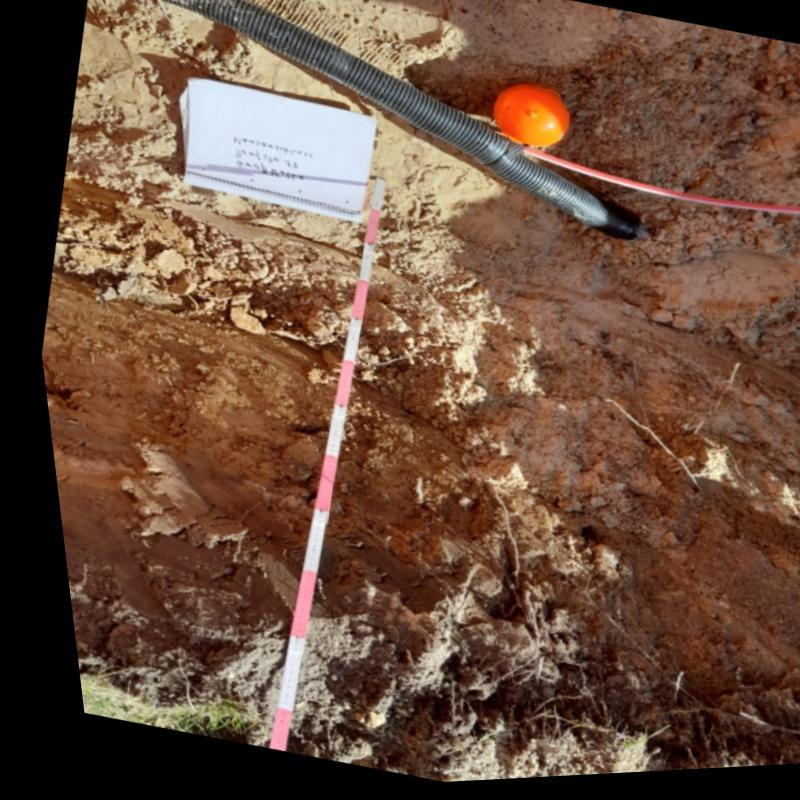Kugelmarker: (487, 87, 568, 152)
